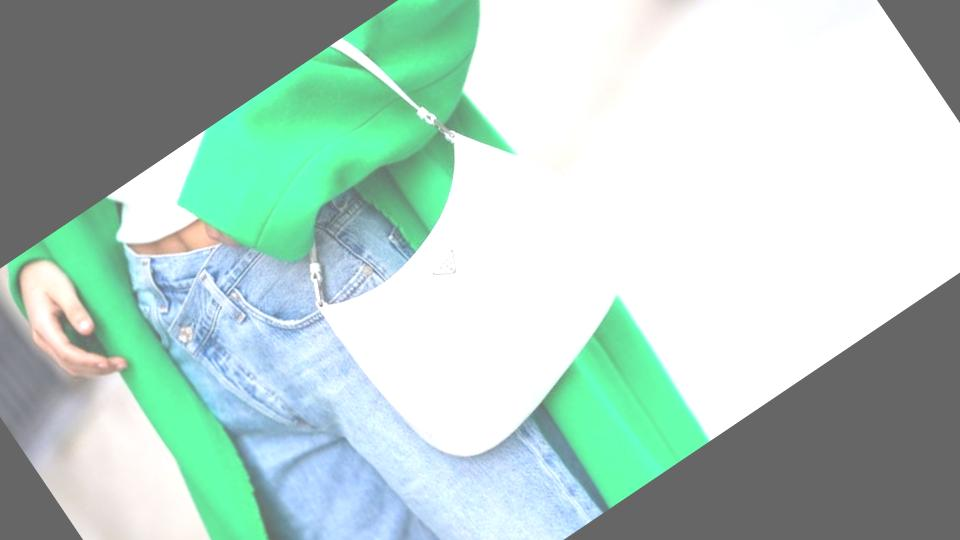PRADA: (426, 248, 464, 284)
